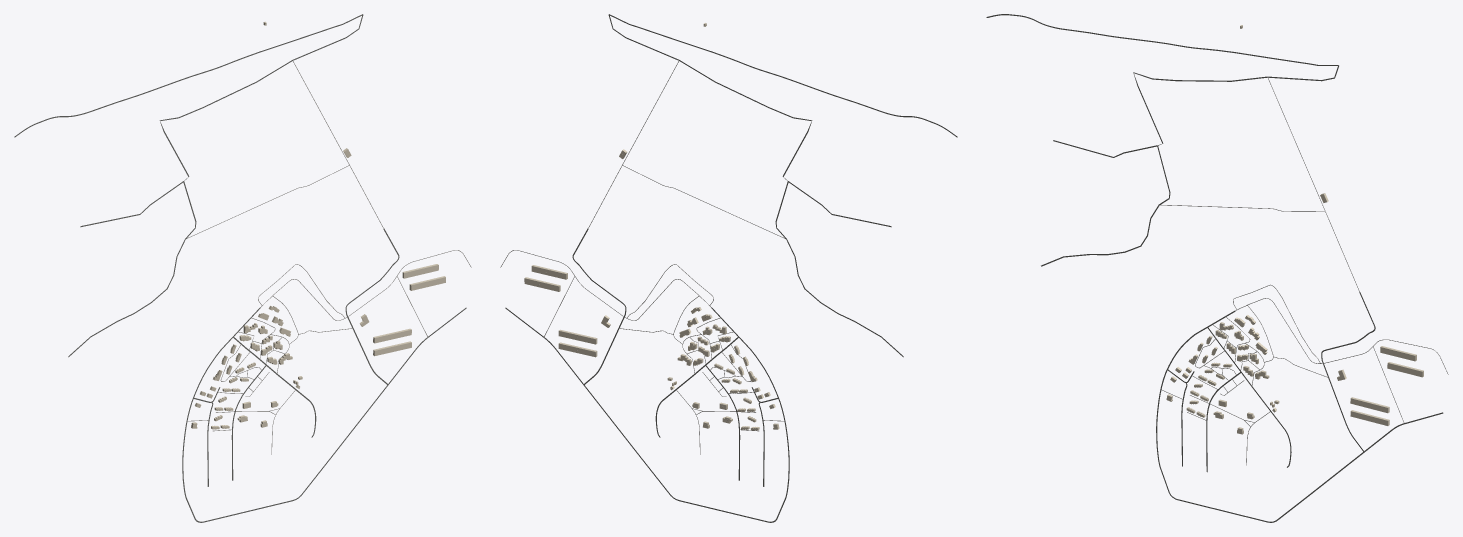
Rendered from historic-palestine-12_26_3544_3200.glb.
3 views of the same model, side by side, from view 1: azimuth 30°, elevation 25°; view 2: azimuth 150°, elevation 25°; view 3: azimuth 330°, elevation 25° (orthographic).
Visible parts, largest first — view 1: Road .005, Road .001, Road .002; view 2: Road .005, Road .001, Road .002; view 3: Road .005, Road .001, Road .002.
Boxes of the visible parts, x1=… form: Road .005: x1=182, y1=307, x2=466, y2=522; Road .001: x1=68, y1=14, x2=363, y2=357; Road .002: x1=14, y1=14, x2=362, y2=137; Road .005: x1=505, y1=307, x2=789, y2=522; Road .001: x1=608, y1=14, x2=903, y2=357; Road .002: x1=609, y1=14, x2=957, y2=137; Road .005: x1=1156, y1=310, x2=1443, y2=522; Road .001: x1=1041, y1=65, x2=1338, y2=266; Road .002: x1=986, y1=14, x2=1338, y2=65.
Bounding box in the file's own units: 1332 × 1349 × 8.7.
